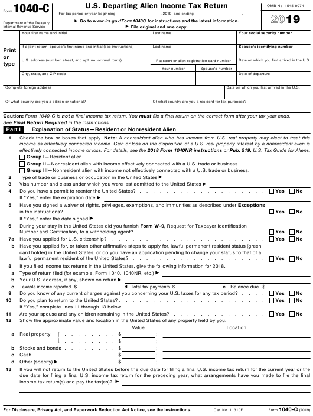checkbox: (268, 187, 276, 194), (288, 187, 296, 194), (288, 208, 296, 215), (288, 228, 296, 235), (288, 255, 296, 262), (288, 311, 296, 318), (268, 207, 275, 214), (268, 228, 275, 235), (288, 235, 295, 242), (268, 235, 275, 242), (268, 255, 275, 262), (288, 290, 295, 297), (268, 290, 275, 297), (268, 297, 275, 304), (288, 297, 295, 304), (268, 310, 275, 317)
textbox: (1, 83, 227, 100), (150, 98, 313, 113), (18, 29, 153, 47), (1, 98, 153, 113), (18, 43, 152, 60), (18, 56, 152, 73), (19, 70, 152, 87), (223, 83, 313, 100), (149, 29, 238, 46), (150, 43, 238, 60), (235, 29, 313, 46), (235, 43, 313, 60), (235, 56, 313, 73), (235, 70, 313, 87), (149, 70, 198, 87), (194, 70, 239, 87)
textline: (18, 386, 311, 394), (18, 394, 311, 401), (95, 216, 313, 223), (121, 380, 311, 388), (103, 196, 313, 203), (124, 278, 313, 285), (161, 332, 313, 340), (161, 346, 312, 353), (161, 353, 312, 360), (164, 175, 313, 182), (161, 271, 313, 277), (162, 340, 313, 346), (161, 360, 312, 366), (208, 182, 313, 188), (194, 9, 242, 18), (58, 359, 116, 366), (117, 10, 160, 18), (77, 284, 124, 291), (175, 284, 222, 291), (266, 284, 313, 291), (121, 332, 156, 339), (122, 353, 157, 360), (121, 359, 156, 366), (121, 345, 155, 352), (121, 337, 155, 344), (243, 9, 259, 18)
